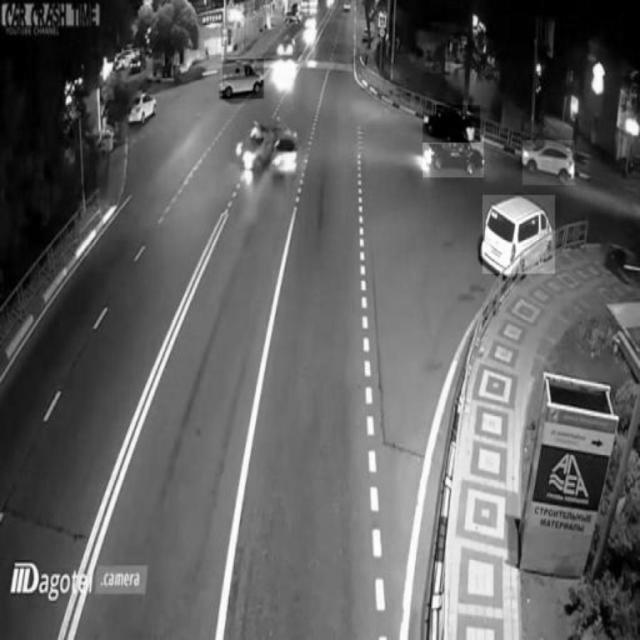accident: (238, 118, 300, 179)
vehicle: (482, 196, 555, 274), (423, 136, 484, 178), (523, 140, 575, 186), (423, 105, 480, 142), (223, 59, 264, 99)
